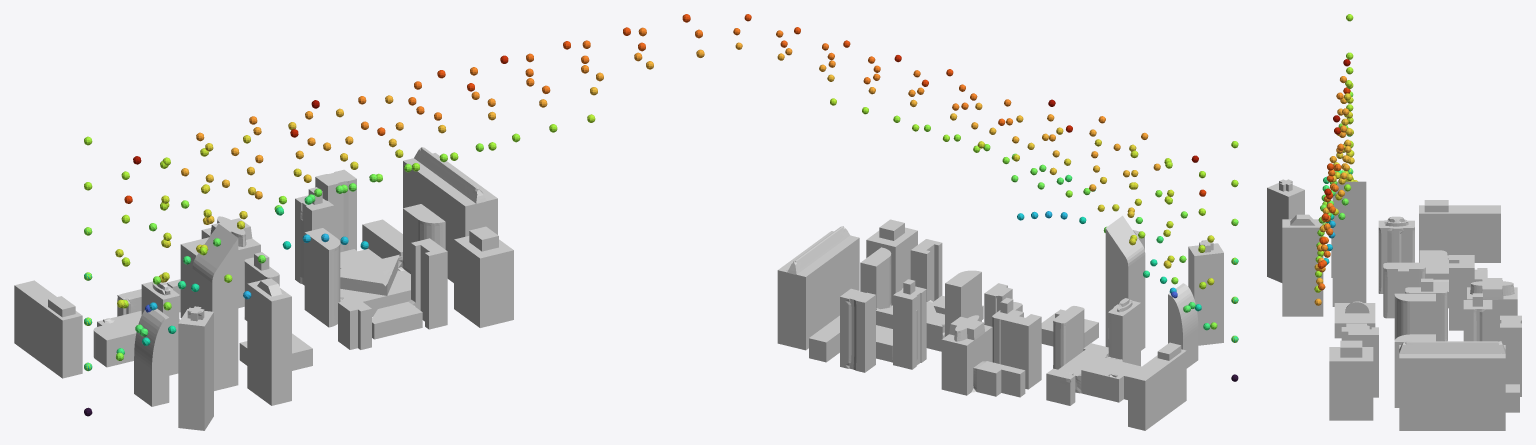
Rendered from wab_partialAnim5.glb.
3 renders of one model, left to right at view 1: azimuth 30°, elevation 25°; view 2: azimuth 150°, elevation 25°; view 3: azimuth 270°, elevation 25°, orthographic. The views are drawn at different scales.
Visible parts, largest first — view 1: mesh0, Renderer Node.012, Renderer Node.010, Renderer Node.004, Renderer Node.005, Renderer Node.009, Renderer Node.001, Renderer Node.002, Renderer Node.011; view 2: mesh0, Renderer Node.012, Renderer Node.004, Renderer Node.010, Renderer Node.009, Renderer Node.005, Renderer Node.002, Renderer Node.001, Renderer Node.011; view 3: mesh0, Renderer Node.010, Renderer Node.009, Renderer Node.004, Renderer Node.012, Renderer Node.002, Renderer Node.011, Renderer Node.005, Renderer Node.006.
Boxes of the visible parts, box(x1,y1,x2,y2) form: mesh0: box(14, 147, 513, 430); Renderer Node.012: box(84, 61, 653, 370); Renderer Node.010: box(116, 49, 704, 354); Renderer Node.004: box(145, 27, 646, 312); Renderer Node.005: box(149, 29, 702, 310); Renderer Node.009: box(135, 40, 590, 331); Renderer Node.001: box(135, 14, 690, 332); Renderer Node.002: box(84, 41, 570, 416); Renderer Node.011: box(121, 27, 630, 308); mesh0: box(777, 215, 1223, 430); Renderer Node.012: box(777, 53, 1238, 342); Renderer Node.004: box(776, 30, 1177, 298); Renderer Node.010: box(735, 42, 1210, 328); Renderer Node.009: box(822, 43, 1189, 312); Renderer Node.005: box(733, 28, 1176, 293); Renderer Node.002: box(843, 40, 1238, 381); Renderer Node.001: box(744, 14, 1190, 311); Renderer Node.011: box(794, 27, 1209, 330); mesh0: box(1267, 179, 1521, 430); Renderer Node.010: box(1314, 69, 1353, 305); Renderer Node.009: box(1315, 83, 1354, 277); Renderer Node.004: box(1314, 97, 1357, 292); Renderer Node.012: box(1316, 14, 1352, 284); Renderer Node.002: box(1321, 16, 1352, 221); Renderer Node.011: box(1319, 67, 1353, 244); Renderer Node.005: box(1317, 96, 1353, 290); Renderer Node.006: box(1322, 93, 1350, 199).
Size of what is drawn, in the model's own units: 2.34 by 1.04 by 1.01.
16 materials, 15 textured.
